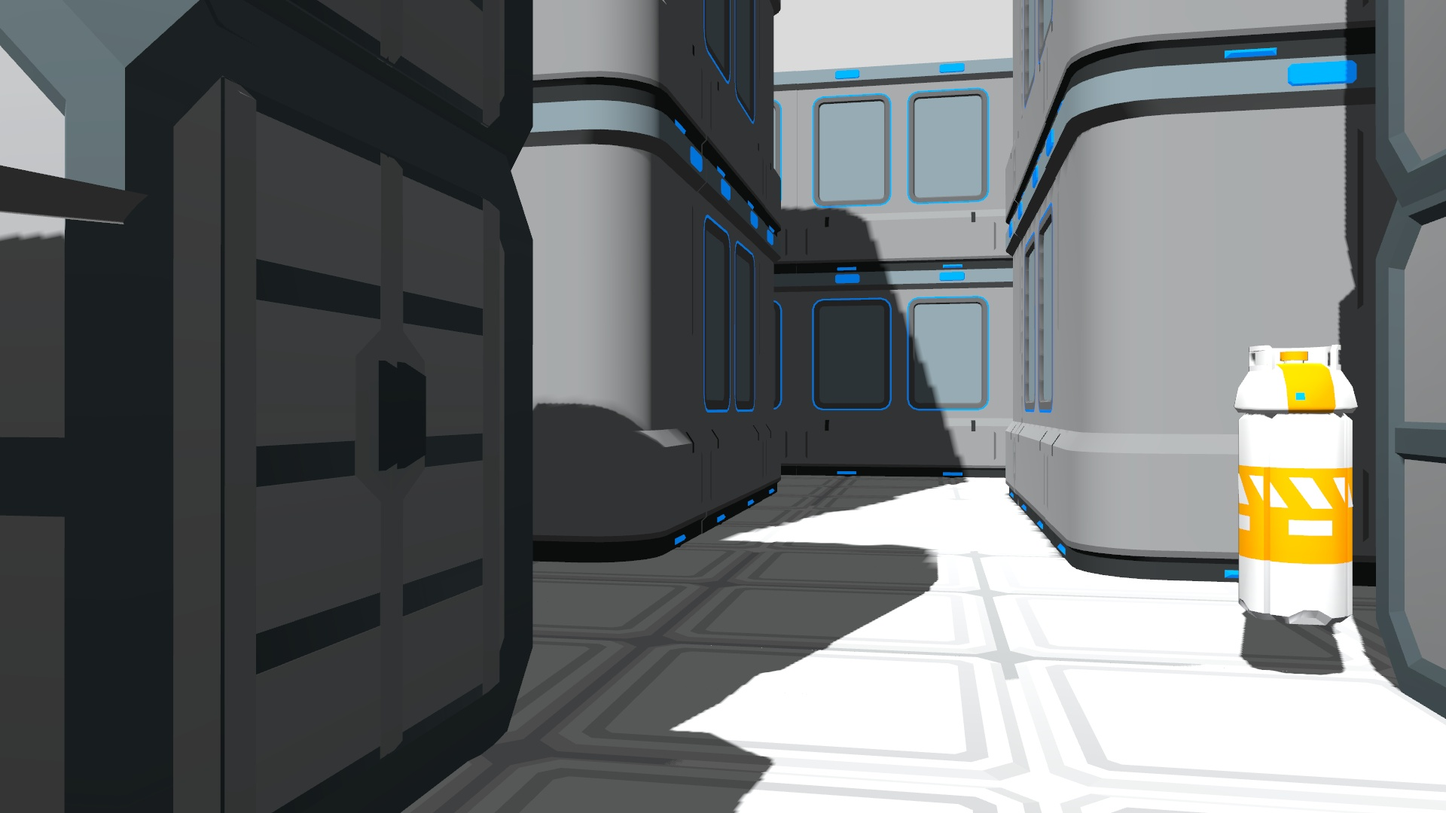yellow_barrel: (1232, 337, 1357, 637)
